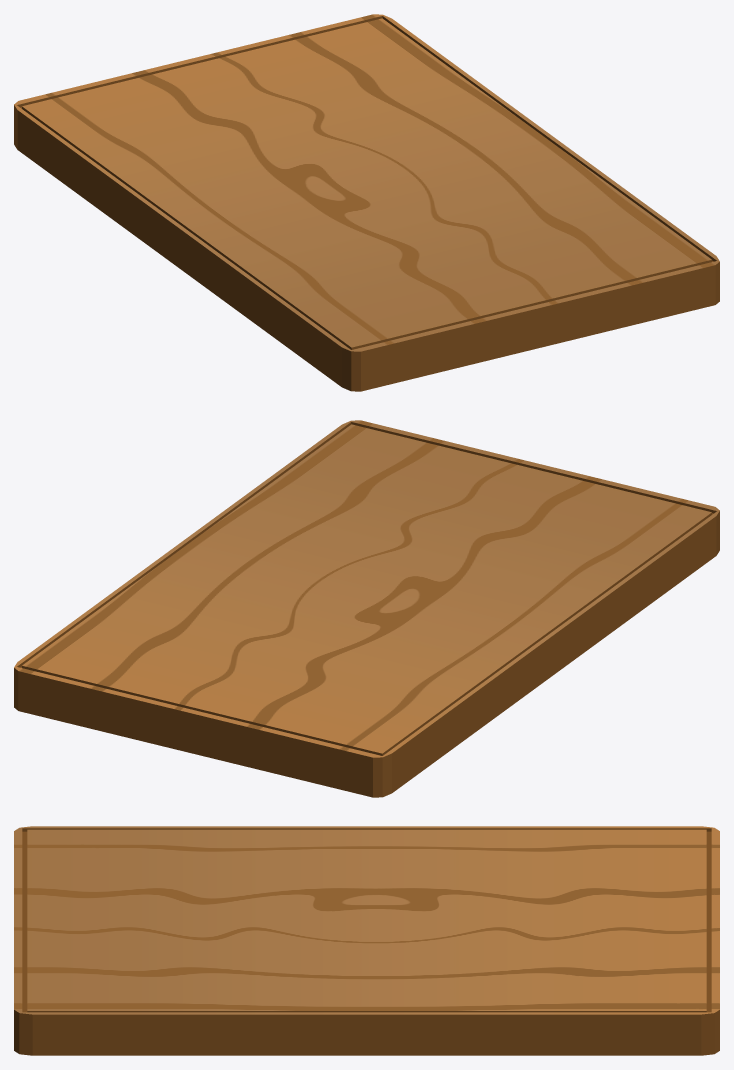
The model's file is cuttingBoard.fbx.
3 views of the same model, one above another, from view 1: azimuth 30°, elevation 25°; view 2: azimuth 150°, elevation 25°; view 3: azimuth 270°, elevation 25° (orthographic). The views are drawn at different scales.
Parts seen in each view (by area): view 1: cutting board; view 2: cutting board; view 3: cutting board.
Boxes of the visible parts, bbox=[...] form: cutting board: bbox=[14, 14, 719, 391]; cutting board: bbox=[14, 420, 719, 797]; cutting board: bbox=[14, 826, 719, 1055].
Size of the model in its own units: 2.71 by 0.2767 by 4.3.
1 material, 1 textured.
